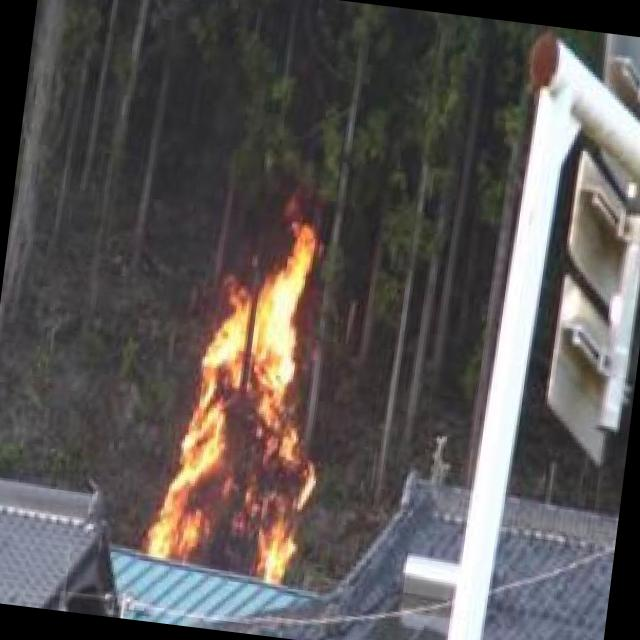Fire: (154, 225, 342, 587)
